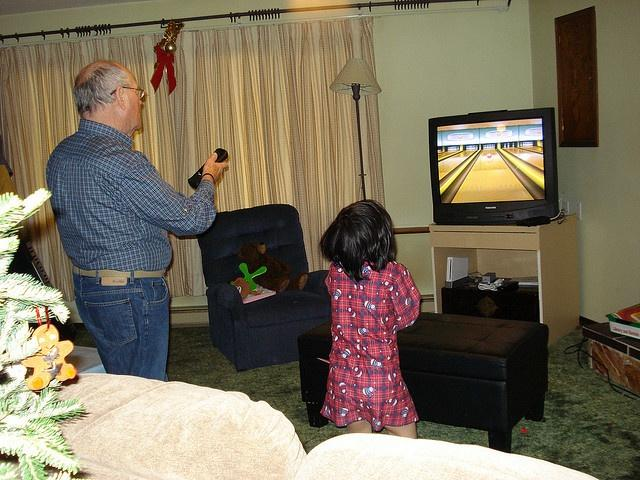AIO PC-Monitor-TV: (427, 106, 558, 226)
